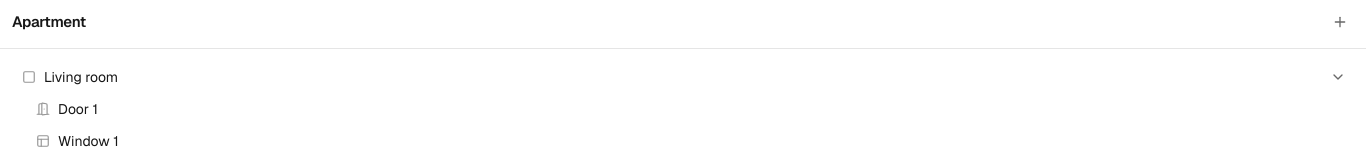
Test: ApartmentLayers room names › leaves the existing name alone when renaming is cancelled
The width and height of the screenshot is (1366, 164).
Double-click the button "Living room": (81, 77) x1=12 y1=61 x2=1326 y2=93
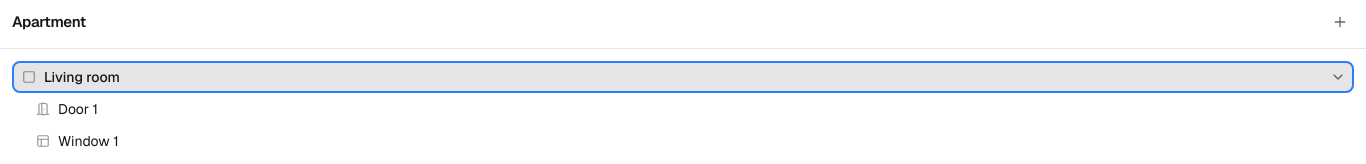
Replace the text in the field named "Rename Living room" with "Not this": (680, 77) x1=44 y1=67 x2=1316 y2=87
Then press Escape
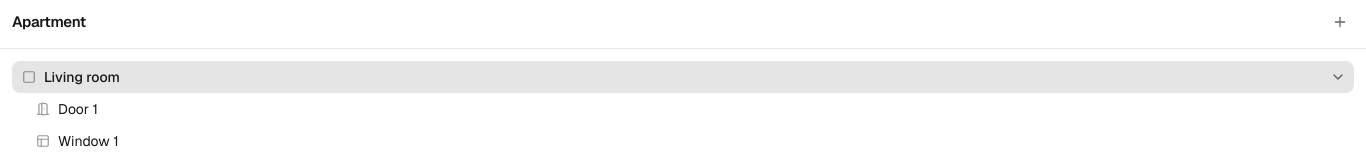
Now the button "Living room" is shown, box x1=12 y1=61 x2=1326 y2=93
